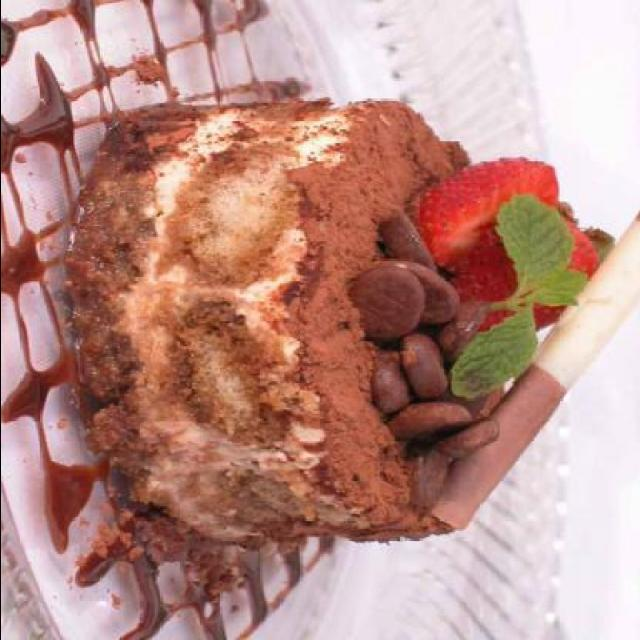Mushroom: (430, 156, 616, 328)
Tiramisu: (59, 113, 559, 541)
